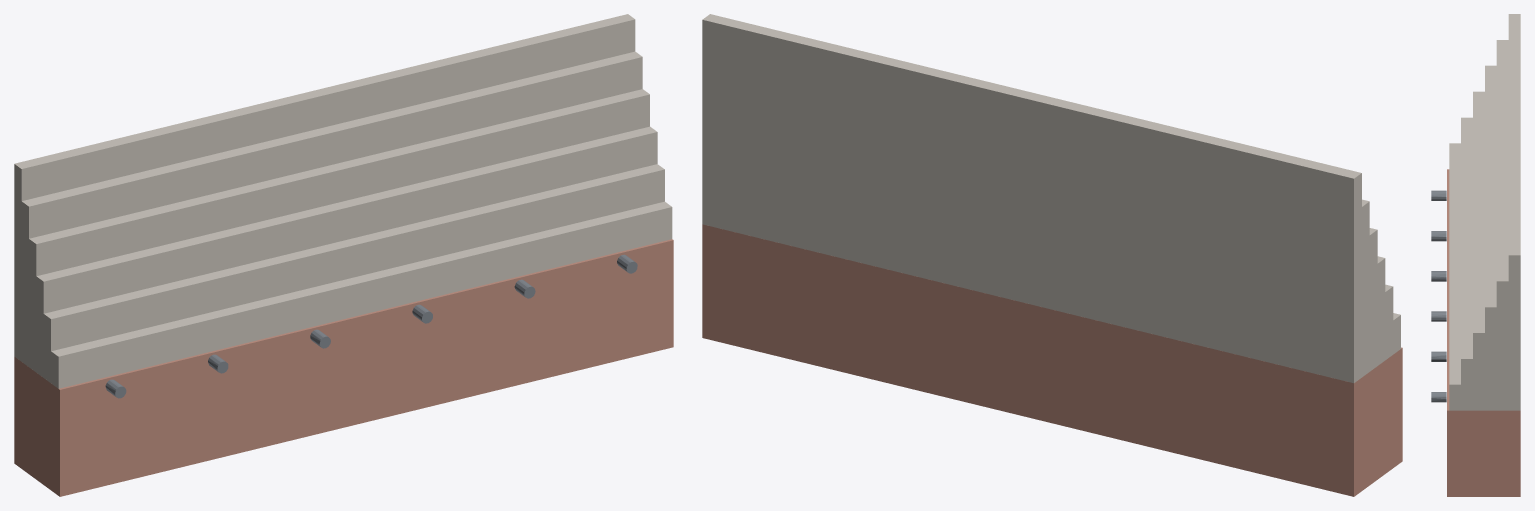
The model's file is r-141-marietta-stepped-levee.glb.
3 renders of one model, left to right at view 1: azimuth 30°, elevation 25°; view 2: azimuth 150°, elevation 25°; view 3: azimuth 270°, elevation 25°, orthographic. The views are drawn at different scales.
Visible parts, largest first — view 1: steps, promenade, bollards; view 2: steps, promenade; view 3: steps, promenade, bollards.
Part boxes in pixels (bbox=[...]): steps: bbox=[14, 14, 672, 388]; promenade: bbox=[14, 239, 673, 496]; bollards: bbox=[105, 254, 637, 398]; steps: bbox=[702, 14, 1400, 383]; promenade: bbox=[702, 224, 1402, 496]; steps: bbox=[1449, 14, 1520, 410]; promenade: bbox=[1447, 169, 1520, 496]; bollards: bbox=[1431, 190, 1446, 402].
Size of the model in its own units: 24000 by 11199 by 3749.
